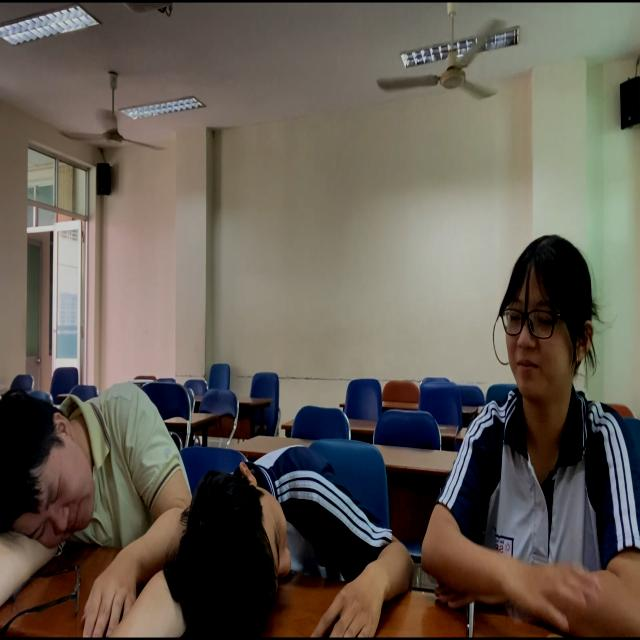sleep: (150, 434, 416, 640), (1, 390, 190, 620)
